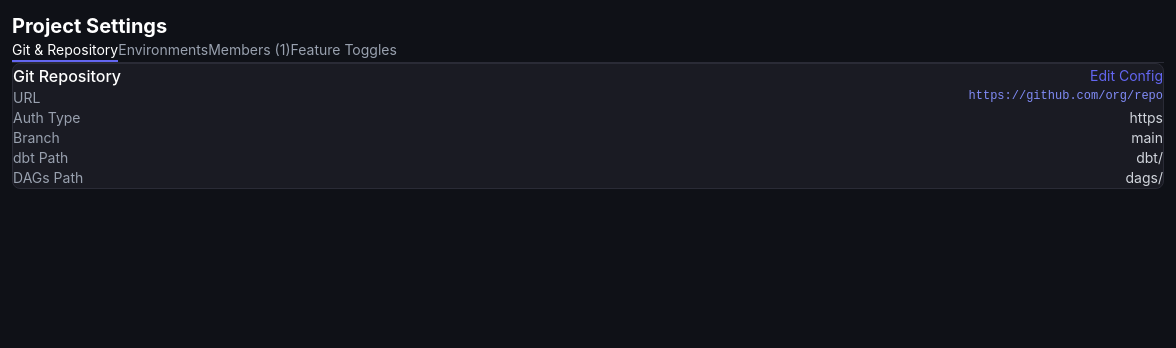
Test: SettingsPage › shows inline edit form when Edit Config is clicked
The width and height of the screenshot is (1176, 348).
Expected: the text "https://github.com/org/repo" is shown, [969,88,1163,108]
Click the button "Edit Config". click: point(1126, 76)
box: [1090,66,1163,86]
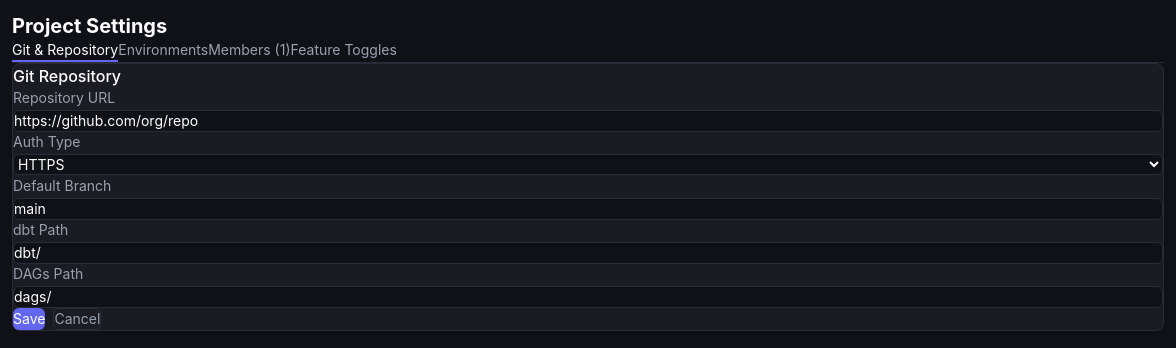
Now the text "Repository URL" is shown, box [13,89,115,106]
Now the text "Default Branch" is shown, box [13,177,111,194]
Now the button "Save" is shown, box [13,308,45,330]
